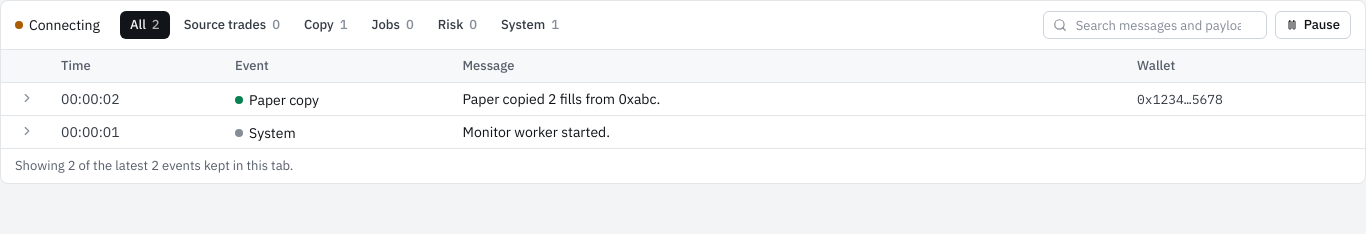
ActivityFeed › filters by category and freezes the list while paused
Click the button "Copy 1": [326, 25] box [294,11,358,39]
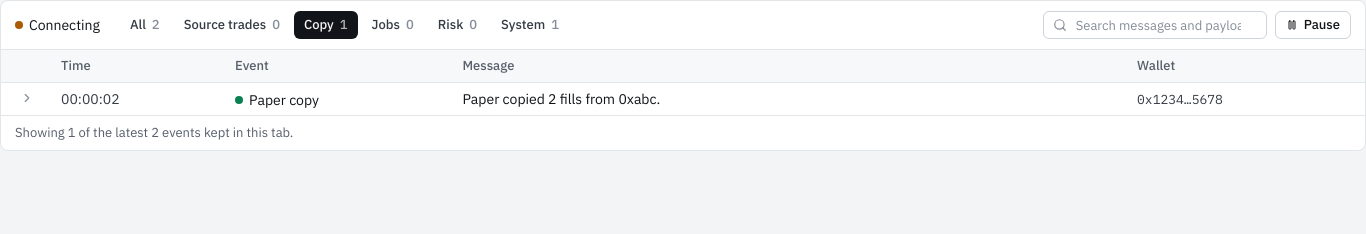
Expected: the text "Paper copied 2 fills from 0xabc." is shown, [450,83,1125,115]
Expected: the text "Monitor worker started." is gone
Click the button "All 2": [145, 25] box [120,11,170,39]
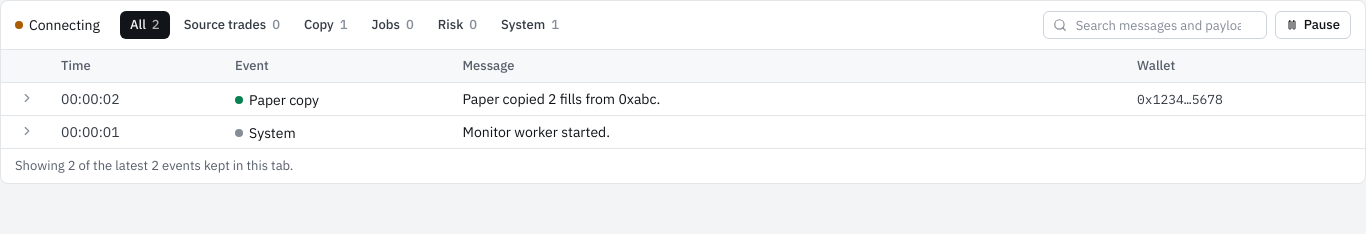
Click the button "Pause": [1313, 25] box [1275,11,1351,39]
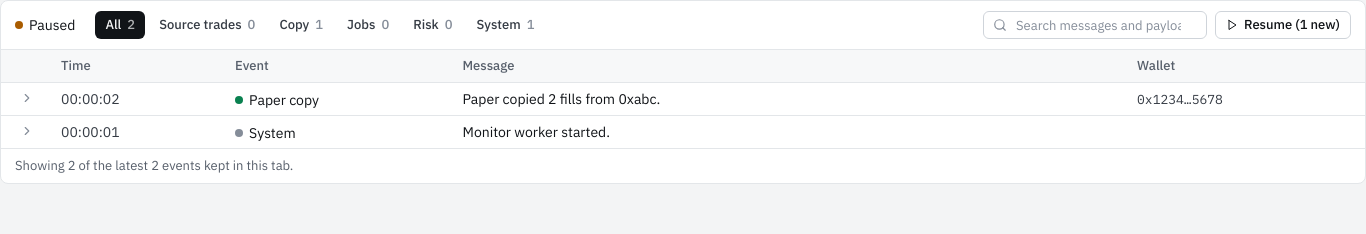
Expected: the text "New event while paused." is not shown
Expected: the button "Resume (1 new)" is shown
Click the button "Resume (1 new)": [1283, 25] box [1215,11,1351,39]
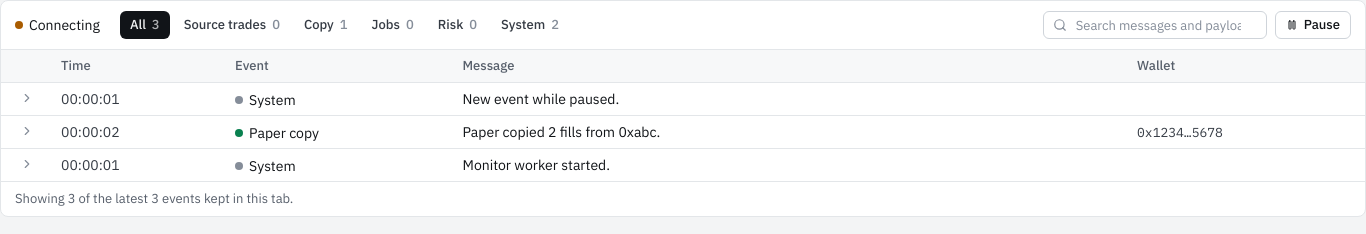
Expected: the text "New event while paused." is shown, [450,83,1125,116]
